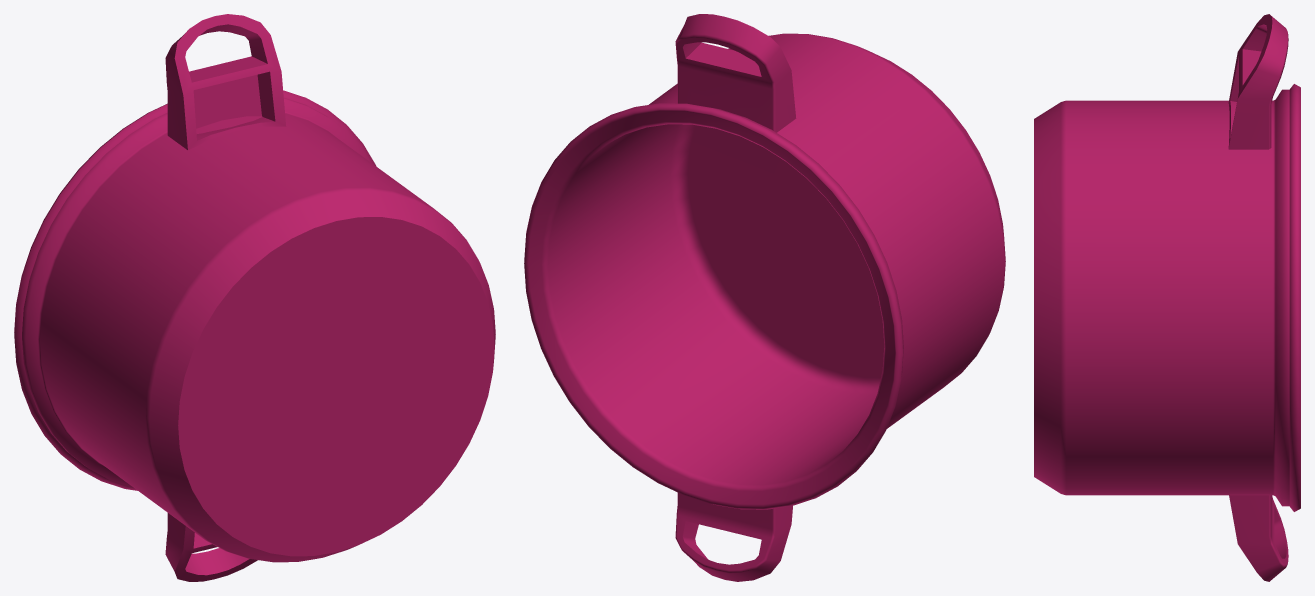
The model's file is SM_Dishes_05.fbx.
The picture shows the model from 3 angles, left to right: view 1: azimuth 30°, elevation 25°; view 2: azimuth 150°, elevation 25°; view 3: azimuth 270°, elevation 25°; orthographic projection. The views are drawn at different scales.
Parts seen in each view (by area): view 1: SM_Dishes_05; view 2: SM_Dishes_05; view 3: SM_Dishes_05.
Boxes of the visible parts, x1,y1,x2,y2 form: SM_Dishes_05: [14, 14, 495, 581]; SM_Dishes_05: [524, 14, 1005, 581]; SM_Dishes_05: [1034, 14, 1300, 581].
Bounding box in the file's own units: 33.44 × 47.5 × 20.81.
